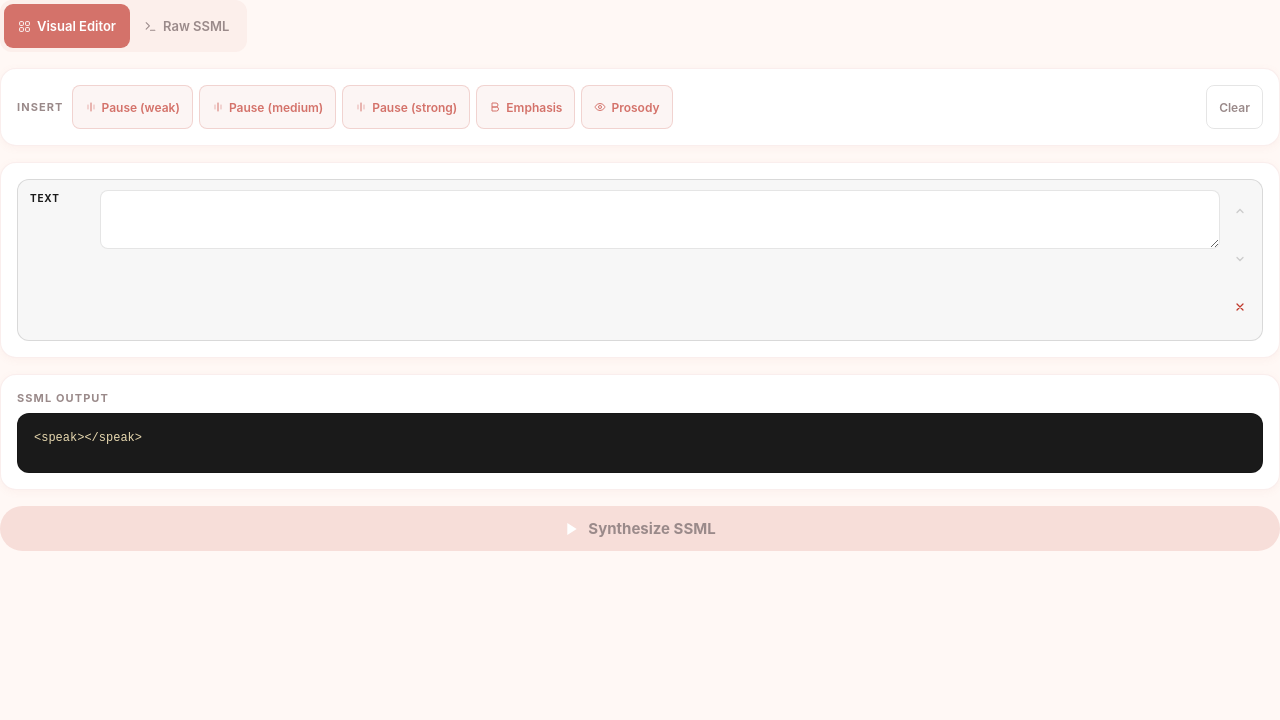
Test: tag insertion › break node strength can be changed via select
Click the button with aria-label "insert medium pause": (268, 107) [199,85,336,129]
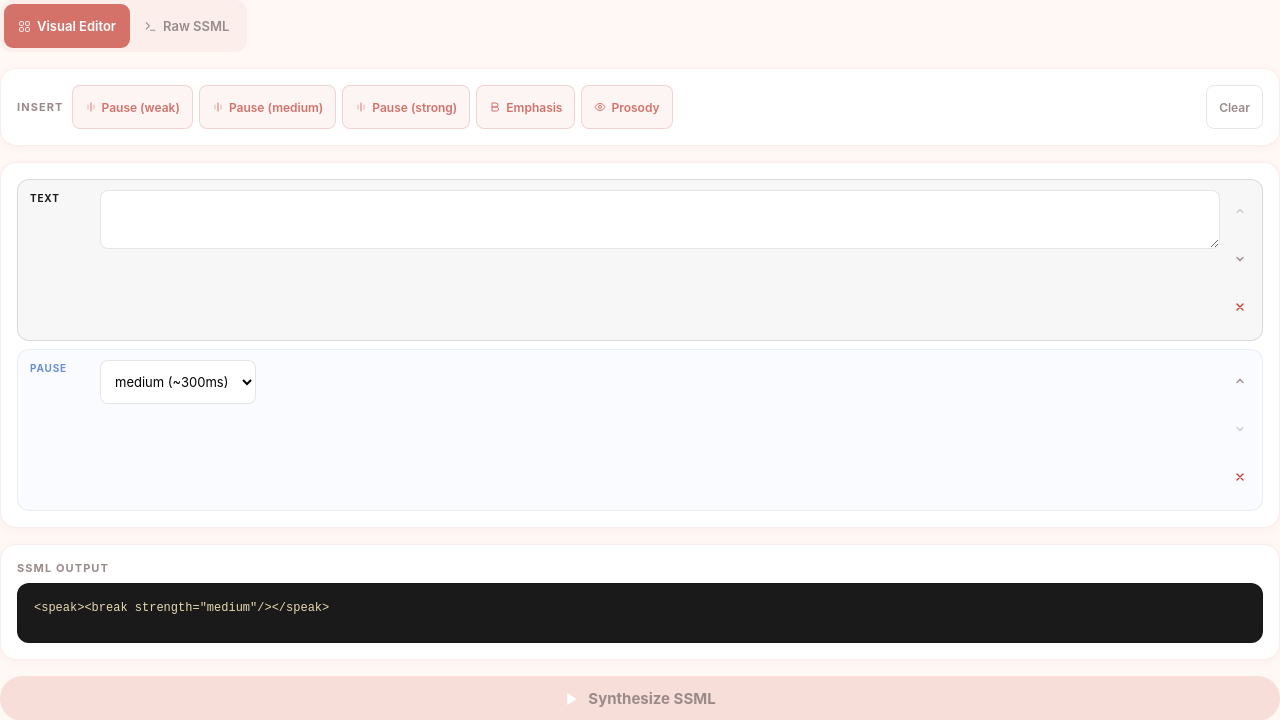
Select "strong (~600ms)" in the dropdown named "Pause strength": (178, 382) [100,360,256,404]
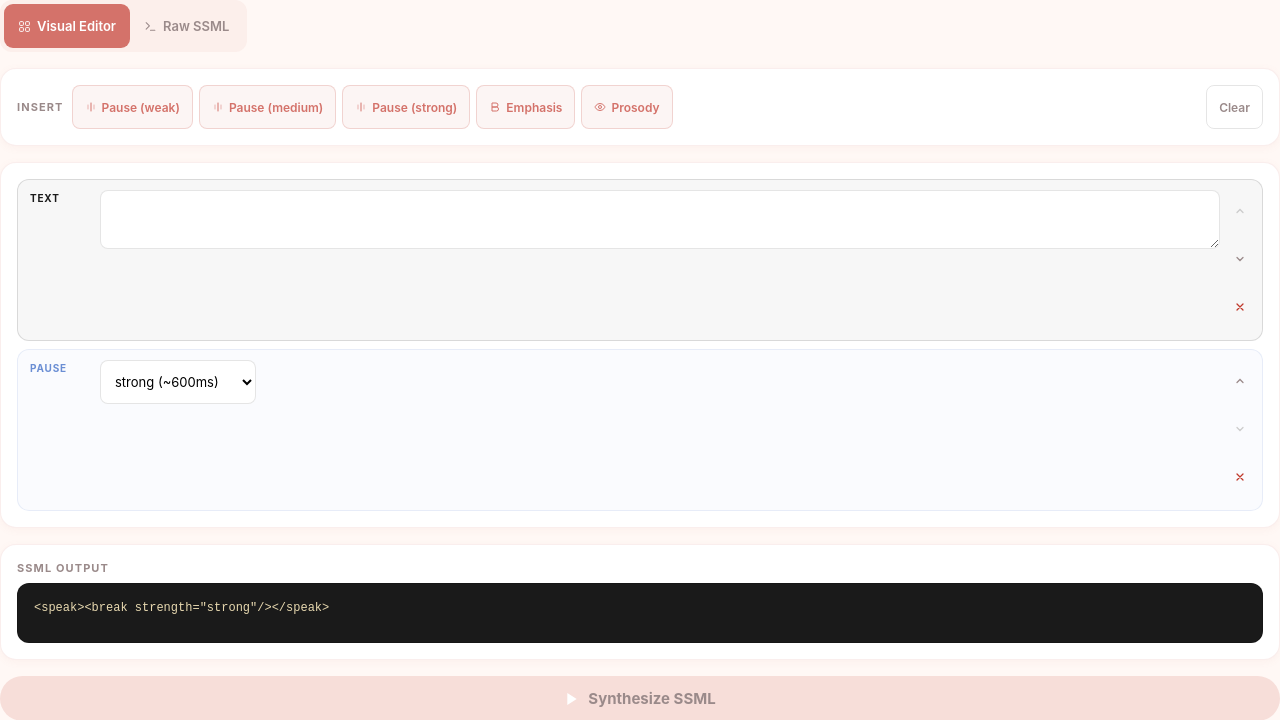
Check: the text named "Generated SSML" shows "strength=\"strong\"", box [34,601,329,615]
